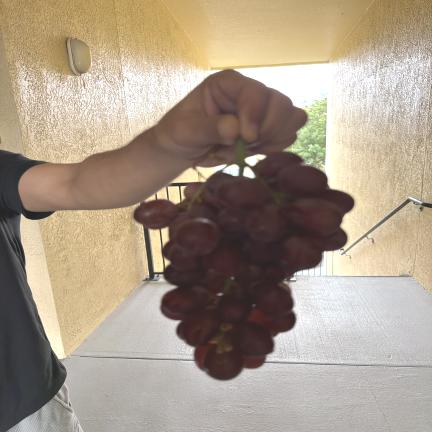grape_cluster: (135, 139, 354, 380)
